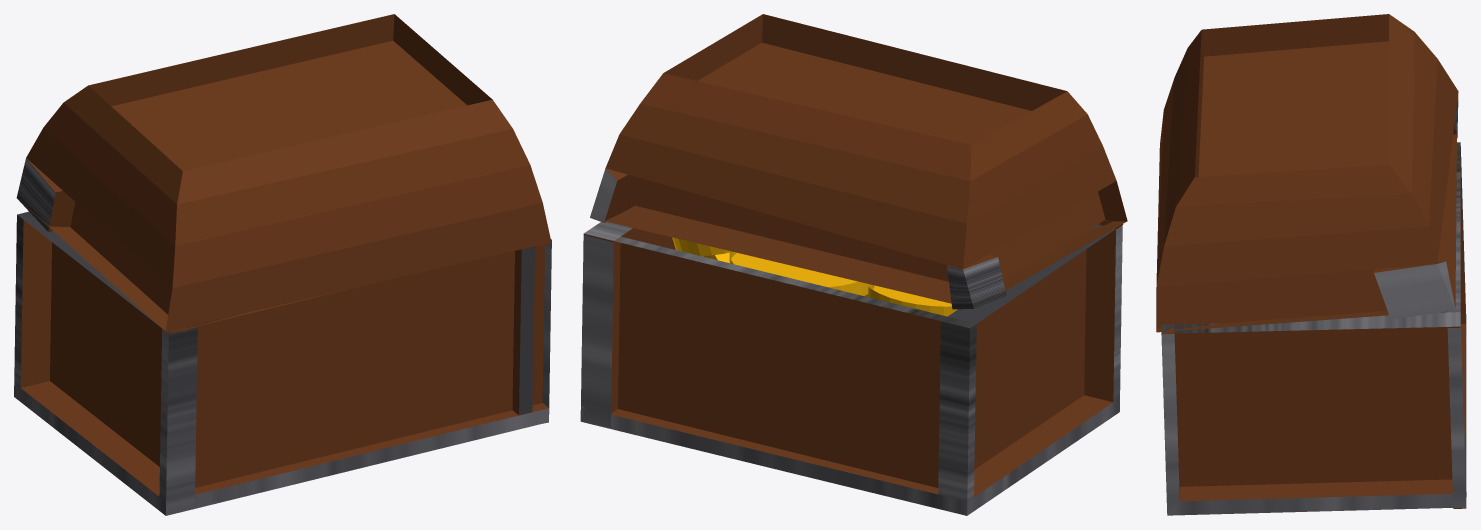
Rendered from chest (3).fbx.
3 views of the same model, side by side, from view 1: azimuth 30°, elevation 25°; view 2: azimuth 150°, elevation 25°; view 3: azimuth 270°, elevation 25° (orthographic). The views are drawn at different scales.
Parts seen in each view (by area): view 1: Cube, Cube.001; view 2: Cube.001, Cube, Cylinder.003, Cylinder.004; view 3: Cube, Cube.001.
Boxes of the visible parts, box(x1,y1,x2,y2) form: Cube: box(16, 14, 551, 331); Cube.001: box(14, 211, 551, 515); Cube.001: box(580, 220, 1123, 515); Cube: box(590, 14, 1127, 309); Cylinder.003: box(729, 251, 874, 295); Cylinder.004: box(864, 285, 957, 316); Cube: box(1156, 14, 1458, 332); Cube.001: box(1161, 142, 1466, 515).
Size of the model in its own units: 302 by 252 by 212.
17 materials, 2 textured.
